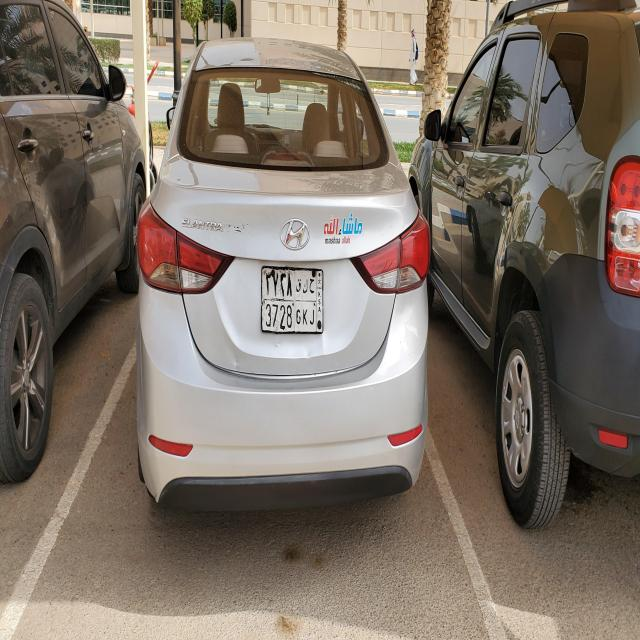license_plate: (261, 266, 324, 332)
